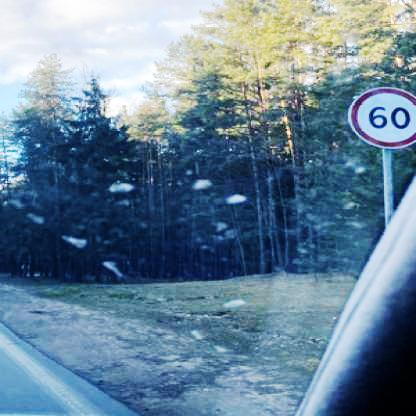Speed Limit -60-: (345, 85, 416, 151)
